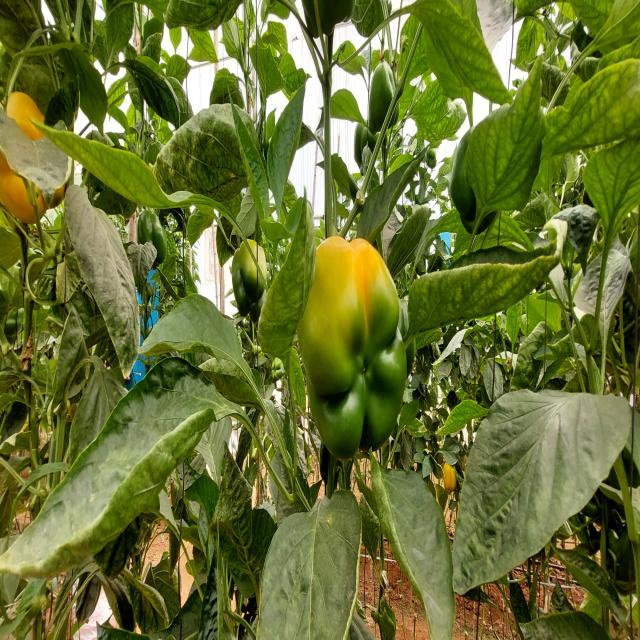GreenishYellow--Can-be-Harvested: (292, 215, 418, 477)
